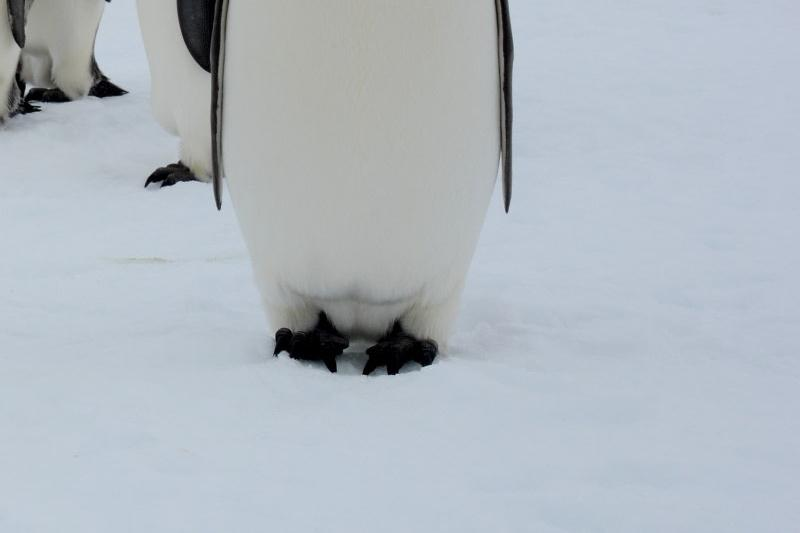Emperor Penguin: (171, 0, 543, 418)
